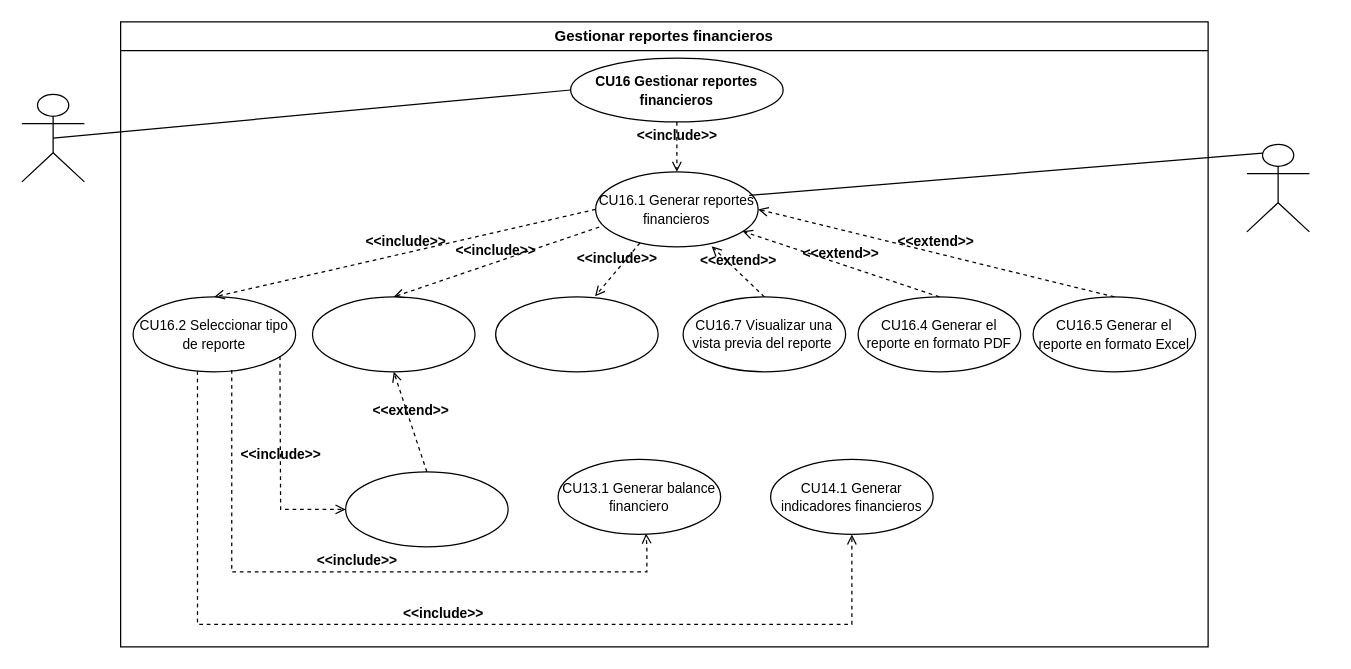
Some shapes in this 1351 by 669 pixel diagram are drawn without their labels. The shapes that lost their labels are listed below. From the top down, each one's centre as x and y in pixels, then its label:
At [52,137]: "Usuario".
At [1277,187]: "Base de Datos".
At [393,334]: "CU16.3 Seleccionar periodo del reporte".
At [576,334]: "CU16.6 Consultar fecha de generación del reporte".
At [426,509]: "CU12.1 Generar flujo de caja por periodo".
